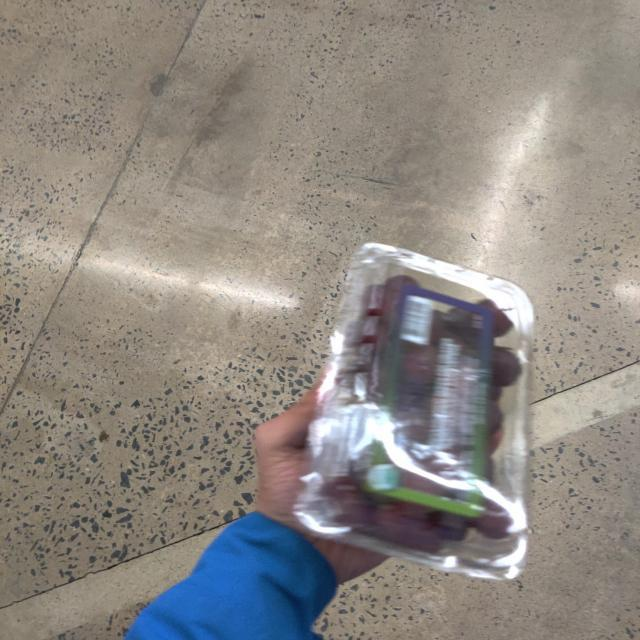Grapes: (304, 245, 534, 583)
